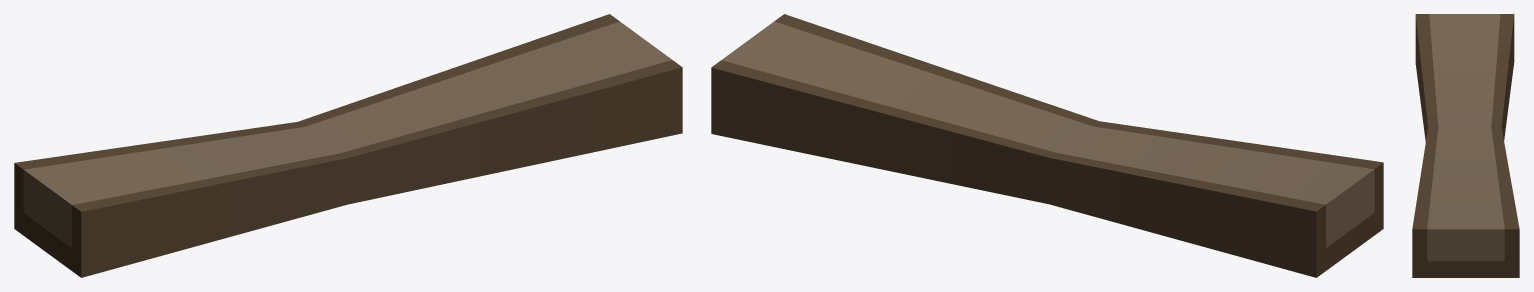
Rendered from SF_Prop_Goblin_Seat_01.fbx.
3 views of the same model, side by side, from view 1: azimuth 30°, elevation 25°; view 2: azimuth 150°, elevation 25°; view 3: azimuth 270°, elevation 25° (orthographic). The views are drawn at different scales.
Parts seen in each view (by area): view 1: SF_Prop_Goblin_Seat_01; view 2: SF_Prop_Goblin_Seat_01; view 3: SF_Prop_Goblin_Seat_01.
Part boxes in pixels (<box>): SF_Prop_Goblin_Seat_01: <box>14,14,682,277</box>; SF_Prop_Goblin_Seat_01: <box>711,14,1383,277</box>; SF_Prop_Goblin_Seat_01: <box>1412,14,1519,277</box>.
Bounding box in the file's own units: 4.36 × 0.4598 × 0.9195.
